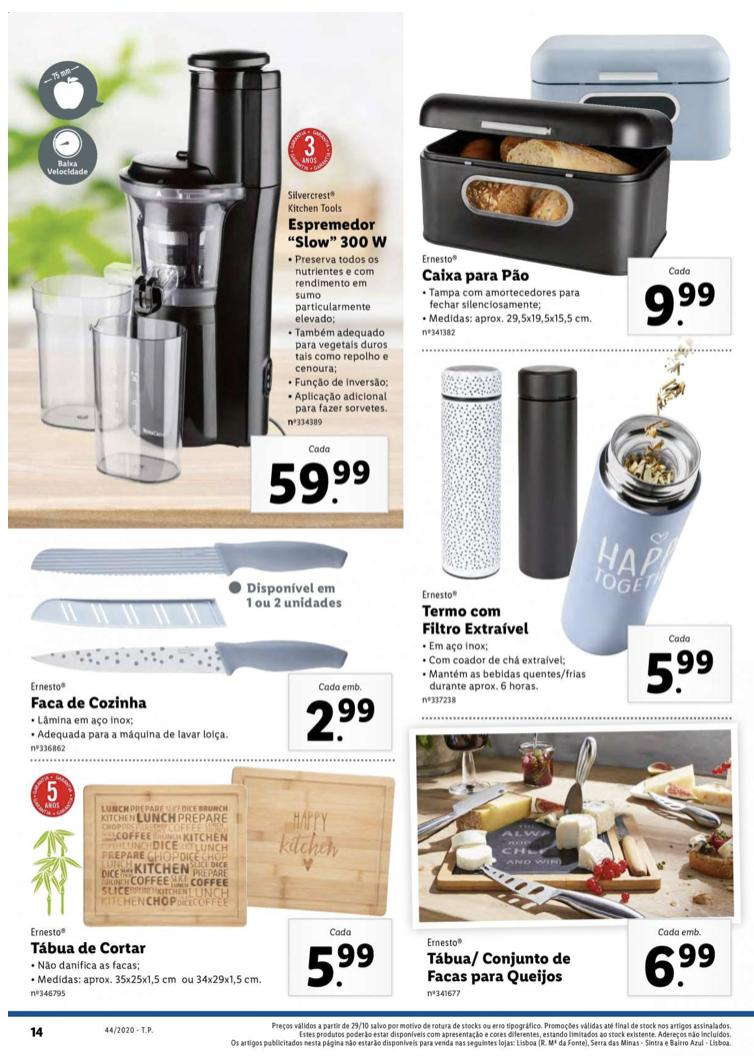name: (420, 946, 571, 988), (419, 600, 537, 642), (285, 214, 392, 252), (417, 261, 532, 288), (27, 938, 152, 957), (28, 693, 150, 711)
price: (265, 457, 377, 506), (641, 277, 720, 335), (642, 646, 719, 698), (304, 938, 379, 989), (303, 697, 377, 746), (645, 943, 717, 988)
product: (24, 27, 399, 519), (416, 357, 737, 707), (412, 19, 740, 342), (407, 723, 740, 1000), (19, 769, 396, 1000), (20, 536, 396, 755)
